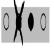correct: (28, 10, 34, 33)
not correct: (14, 0, 24, 46)
